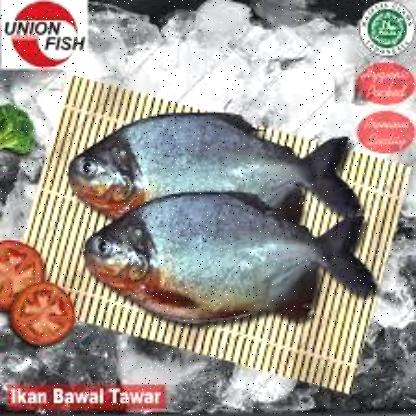ikan-pacu: (82, 192, 371, 322), (62, 116, 354, 230)
